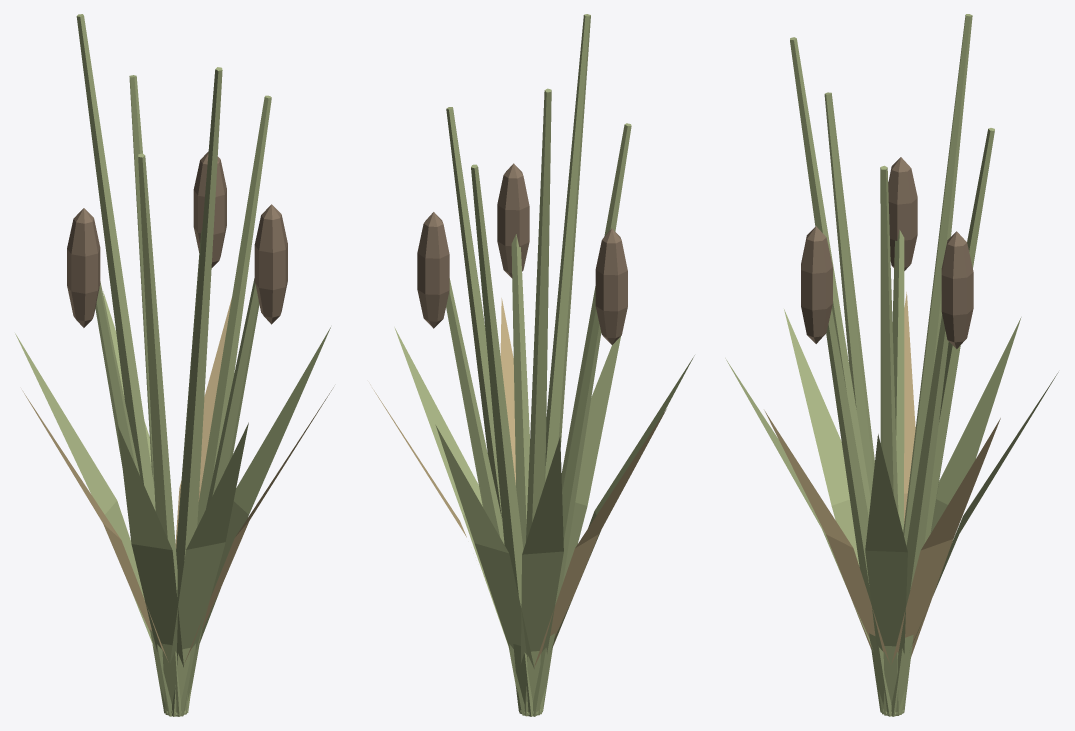
The model's file is silt_reed.glb.
The picture shows the model from 3 angles, left to right: view 1: azimuth 30°, elevation 25°; view 2: azimuth 150°, elevation 25°; view 3: azimuth 270°, elevation 25°; orthographic projection. The views are drawn at different scales.
Parts seen in each view (by area): view 1: silt_reed; view 2: silt_reed; view 3: silt_reed.
Boxes of the visible parts, box(x1,y1,x2,y2) form: silt_reed: box(15, 14, 333, 716); silt_reed: box(370, 14, 694, 716); silt_reed: box(725, 14, 1058, 716).
Size of the model in its own units: 0.4384 by 0.963 by 0.4384.
